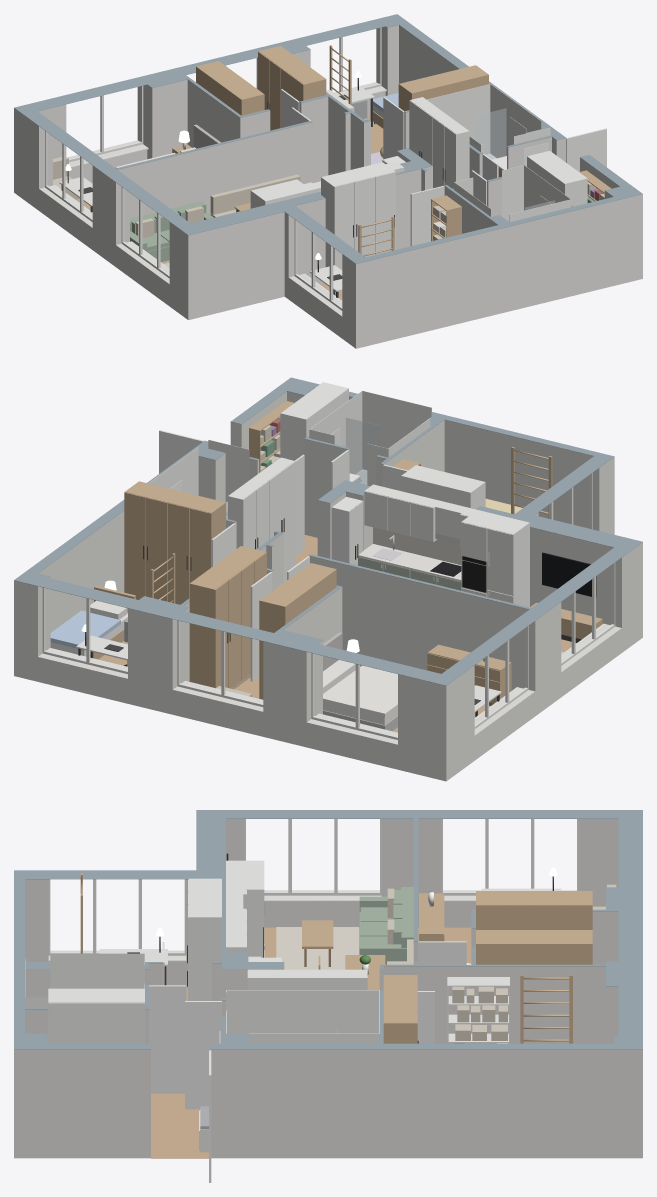
The picture shows the model from 3 angles, top to bottom: view 1: azimuth 30°, elevation 25°; view 2: azimuth 150°, elevation 25°; view 3: azimuth 270°, elevation 25°; orthographic projection. The views are drawn at different scales.
Parts seen in each view (by area): view 1: wall, white, wallcap, oak, tile_wall, white_gloss, fabric_sand, glass, fabric_green, mirror, metal_dark, oak_floor; view 2: wall, white, oak, wallcap, tile_wall, white_gloss, linen, backsplash, bed_blue, glass, black, worktop (+6 smaller); view 3: wall, wallcap, white, oak, tile_wall, white_gloss, oak_floor, fabric_sand, fabric_green, rug_sand.
Boxes of the visible parts, x1=… form: wall: x1=14, y1=25, x2=642, y2=348; white: x1=45, y1=27, x2=587, y2=310; wallcap: x1=14, y1=14, x2=642, y2=263; oak: x1=172, y1=45, x2=610, y2=256; tile_wall: x1=426, y1=84, x2=571, y2=222; white_gloss: x1=281, y1=89, x2=606, y2=246; fabric_sand: x1=53, y1=156, x2=604, y2=240; glass: x1=476, y1=108, x2=554, y2=210; fabric_green: x1=130, y1=201, x2=213, y2=262; mirror: x1=510, y1=117, x2=550, y2=206; metal_dark: x1=61, y1=78, x2=445, y2=297; oak_floor: x1=76, y1=115, x2=383, y2=300; wall: x1=14, y1=388, x2=642, y2=781; white: x1=42, y1=382, x2=615, y2=739; oak: x1=90, y1=401, x2=602, y2=703; wallcap: x1=14, y1=377, x2=642, y2=685; tile_wall: x1=149, y1=390, x2=431, y2=511; white_gloss: x1=159, y1=430, x2=407, y2=681; linen: x1=50, y1=600, x2=397, y2=724; backsplash: x1=373, y1=527, x2=461, y2=564; bed_blue: x1=50, y1=610, x2=120, y2=650; glass: x1=346, y1=417, x2=379, y2=484; black: x1=430, y1=552, x2=596, y2=596; worktop: x1=358, y1=544, x2=461, y2=581; wall: x1=14, y1=819, x2=642, y2=1158; wallcap: x1=14, y1=810, x2=642, y2=1049; white: x1=48, y1=819, x2=578, y2=1152; oak: x1=80, y1=873, x2=592, y2=1043; tile_wall: x1=25, y1=953, x2=379, y2=1043; white_gloss: x1=149, y1=941, x2=466, y2=1182; oak_floor: x1=151, y1=927, x2=471, y2=1158; fabric_sand: x1=387, y1=884, x2=616, y2=1043; fabric_green: x1=359, y1=887, x2=413, y2=964; rug_sand: x1=276, y1=927, x2=358, y2=969.
Bounding box in the file's own units: 10.98 × 2.5 × 11.03.
